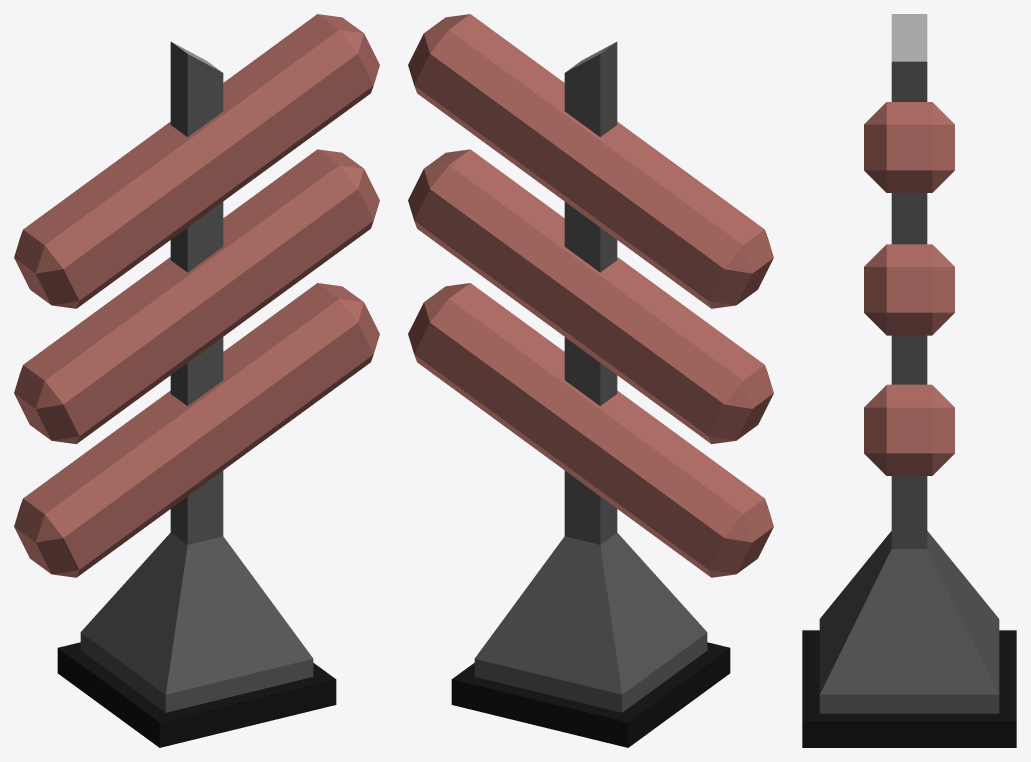
File: F11_Sculp1.fbx
The picture shows the model from 3 angles, left to right: view 1: azimuth 30°, elevation 25°; view 2: azimuth 150°, elevation 25°; view 3: azimuth 270°, elevation 25°; orthographic projection. The views are drawn at different scales.
Parts seen in each view (by area): view 1: F11_Sculp2; view 2: F11_Sculp2; view 3: F11_Sculp2.
Part boxes in pixels (x1=…): F11_Sculp2: x1=14, y1=14, x2=379, y2=747; F11_Sculp2: x1=408, y1=14, x2=773, y2=747; F11_Sculp2: x1=802, y1=14, x2=1016, y2=747.
Bounding box in the file's own units: 4.58 × 8.21 × 2.35.
